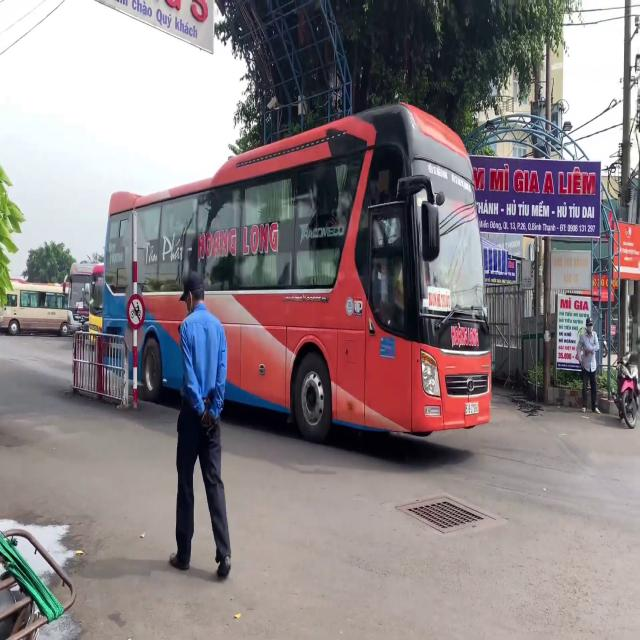bien_trang: (465, 401, 479, 415)
